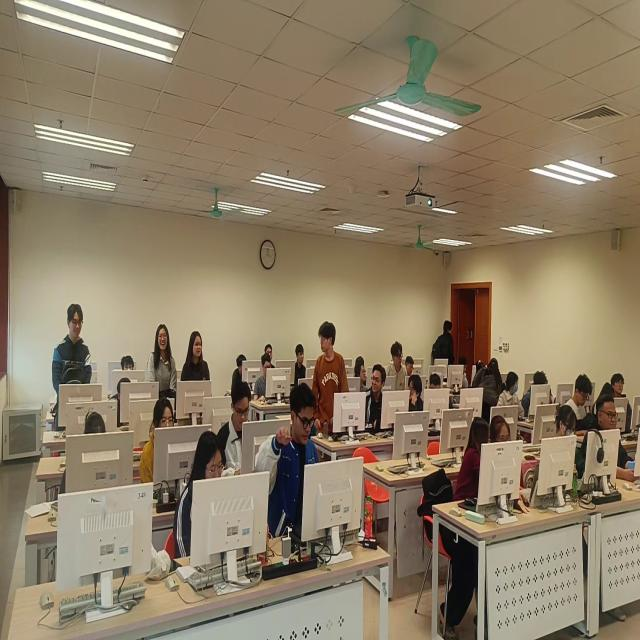raise_hand: (263, 392, 318, 496)
raise_head: (586, 399, 640, 486), (153, 324, 174, 368), (608, 370, 630, 405), (391, 341, 407, 383), (120, 354, 140, 383), (354, 362, 372, 388), (261, 344, 277, 362)
stand: (52, 303, 87, 438), (312, 322, 349, 445), (183, 329, 212, 426), (148, 324, 178, 415), (433, 319, 455, 391)
using_computer: (261, 391, 329, 551), (173, 430, 235, 567), (69, 413, 123, 505), (488, 411, 529, 525), (139, 402, 190, 487), (219, 390, 266, 482), (545, 406, 584, 495), (497, 374, 538, 425), (255, 354, 288, 407), (111, 375, 143, 428), (530, 367, 560, 409), (430, 375, 448, 430), (570, 376, 593, 419), (292, 343, 312, 387), (456, 357, 477, 397), (233, 357, 256, 392), (408, 355, 433, 383)
